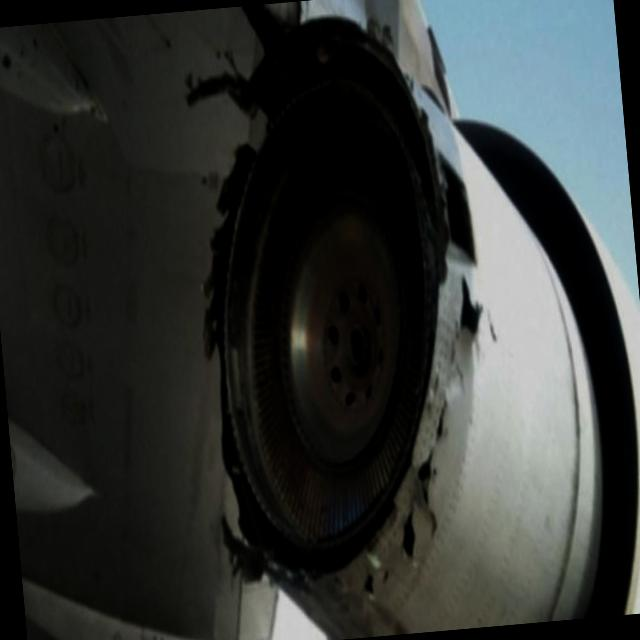crack: (338, 270, 512, 602)
